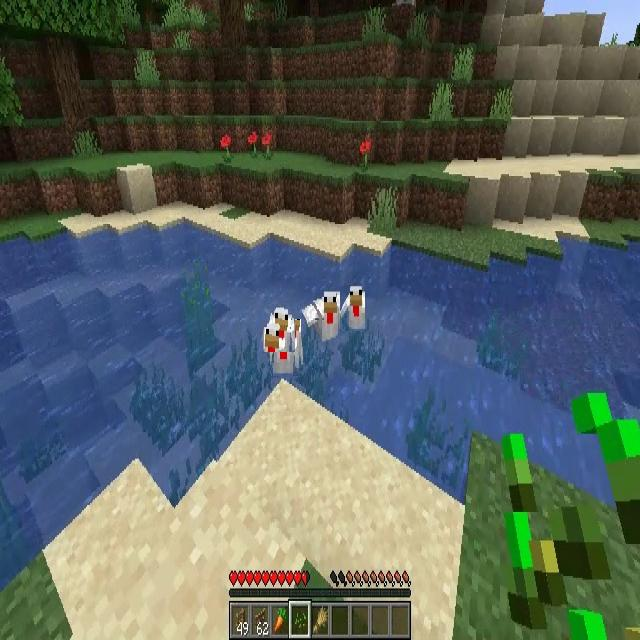duck: (270, 319, 301, 376), (304, 292, 338, 342), (264, 306, 295, 352), (340, 285, 365, 331)
